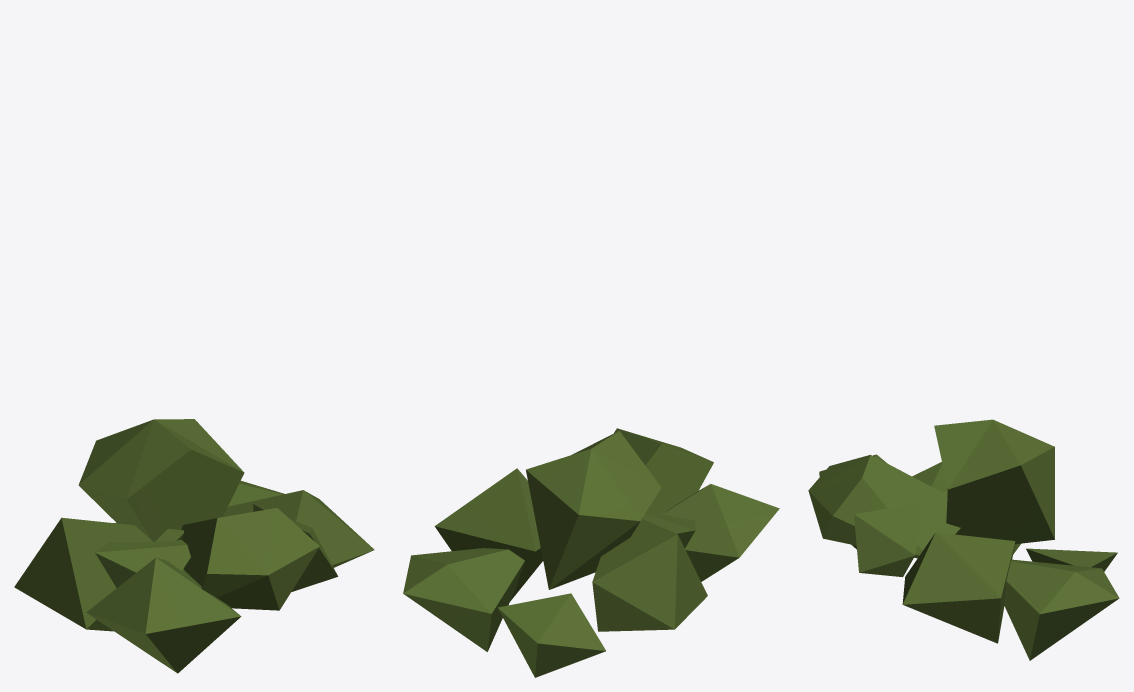
The model's file is samurai_SM_Gen_Env_Flowers_07.gltf.
The picture shows the model from 3 angles, left to right: view 1: azimuth 30°, elevation 25°; view 2: azimuth 150°, elevation 25°; view 3: azimuth 270°, elevation 25°; orthographic projection. The views are drawn at different scales.
Visible parts, largest first — view 1: SM_Gen_Env_Flowers_07; view 2: SM_Gen_Env_Flowers_07; view 3: SM_Gen_Env_Flowers_07.
Part boxes in pixels (x1=…): SM_Gen_Env_Flowers_07: x1=14, y1=419, x2=374, y2=673; SM_Gen_Env_Flowers_07: x1=403, y1=428, x2=779, y2=677; SM_Gen_Env_Flowers_07: x1=808, y1=419, x2=1119, y2=660.
Size of the model in its own units: 0.4851 by 1.12 by 0.5233.
Materials: 1 (1 with a texture image).
